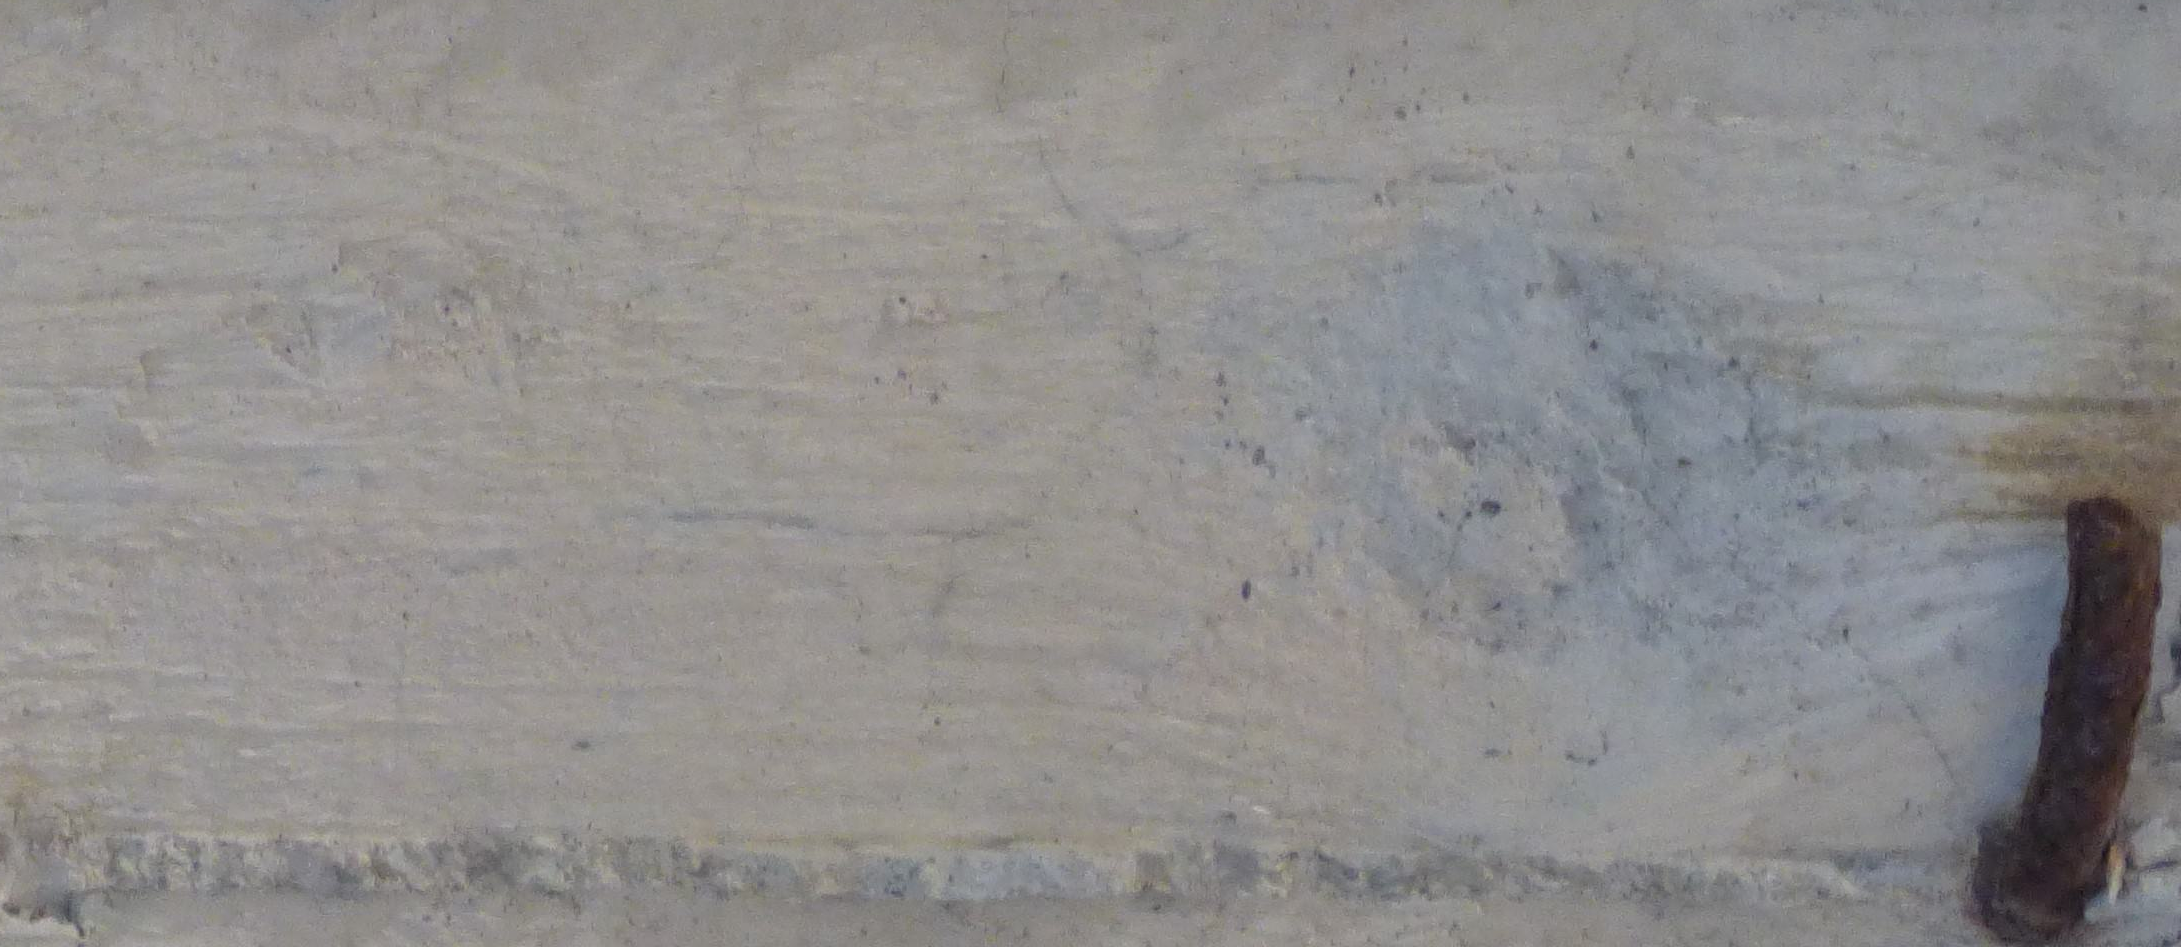Exposed reinforcement: (2002, 494, 2164, 947)
